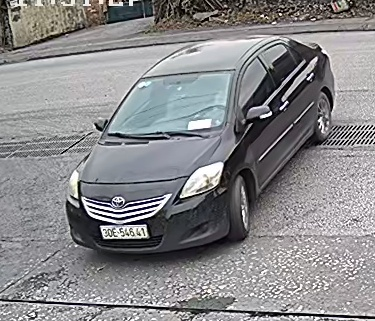vehicle plate: (96, 219, 153, 244)
